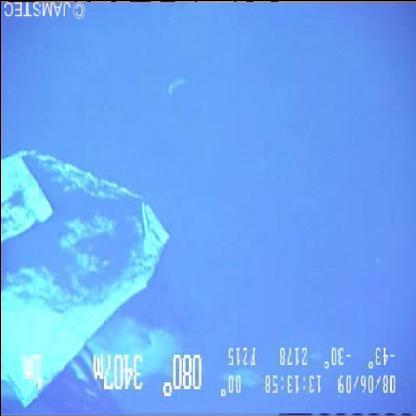Rác: (1, 141, 274, 415)
